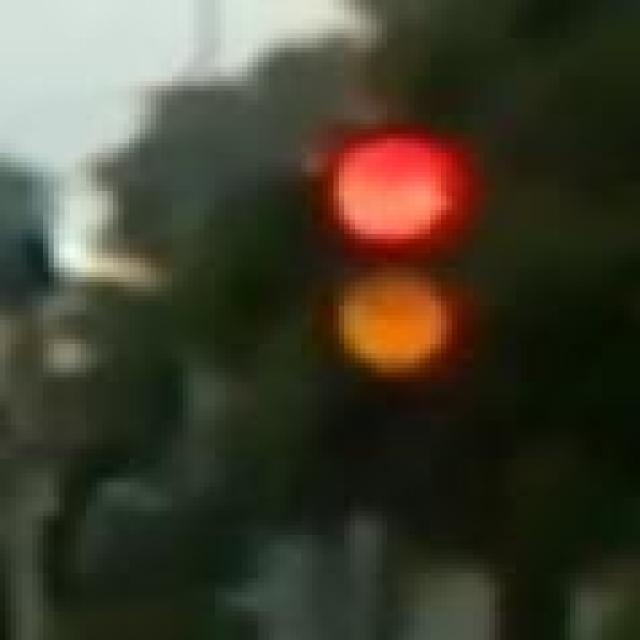yellow_light: (318, 119, 490, 492)
